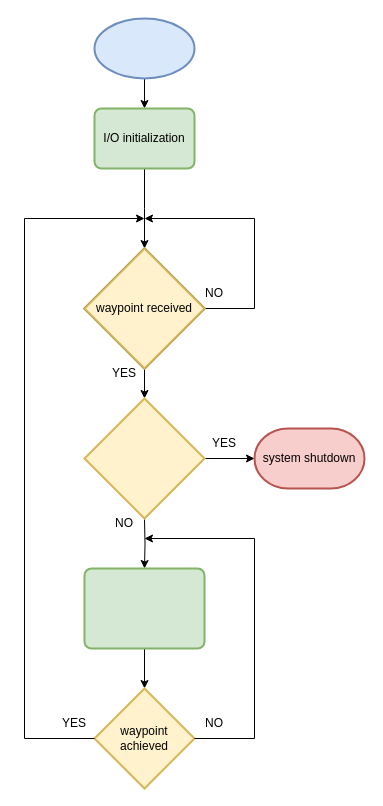
The diagram is 383 pixels wide and 806 high, and some of its shapes have lost their labels. Each missing label, with the box of its shape:
mission finished: (83, 397, 205, 519)
steer to waypoint: (83, 567, 205, 649)
system startup: (93, 17, 195, 79)
